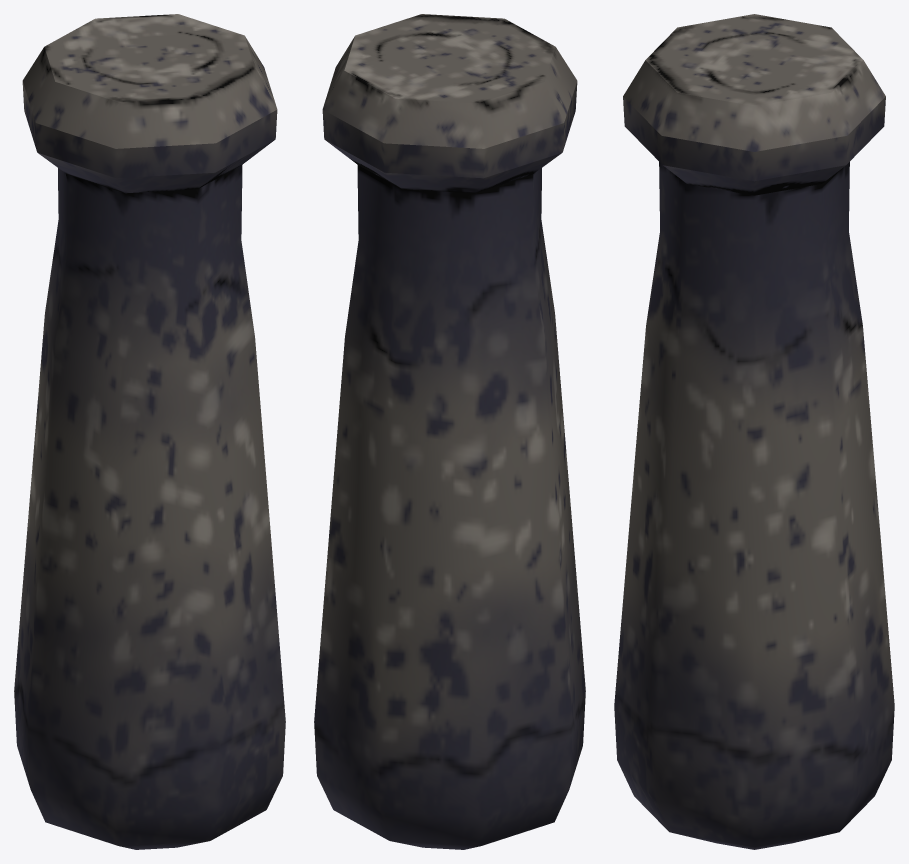
The model's file is Pestle.fbx.
3 views of the same model, side by side, from view 1: azimuth 30°, elevation 25°; view 2: azimuth 150°, elevation 25°; view 3: azimuth 270°, elevation 25° (orthographic).
Visible parts, largest first — view 1: Pestle; view 2: Pestle; view 3: Pestle.
Boxes of the visible parts, <box> form: Pestle: <box>14,14,285,849</box>; Pestle: <box>314,14,585,849</box>; Pestle: <box>614,14,894,849</box>.
Size of the model in its own units: 26.3 by 26.3 by 80.12.
1 material, 1 textured.
